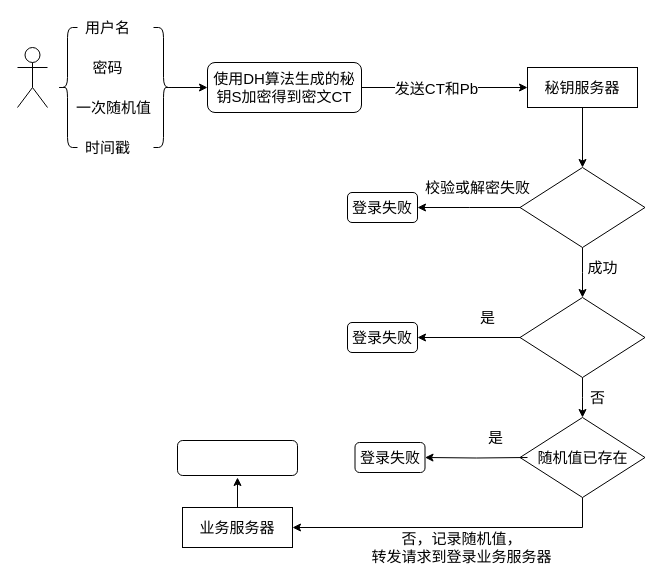
This 663x584 diagram has some shape labels left out. Each missing label, with the centre of its shape:
"Pb校验和 CT解密" goes at (x=582, y=207).
"前端" goes at (x=32, y=77).
"时间戳已过期" goes at (x=582, y=337).
"登录判断" goes at (x=237, y=458).
